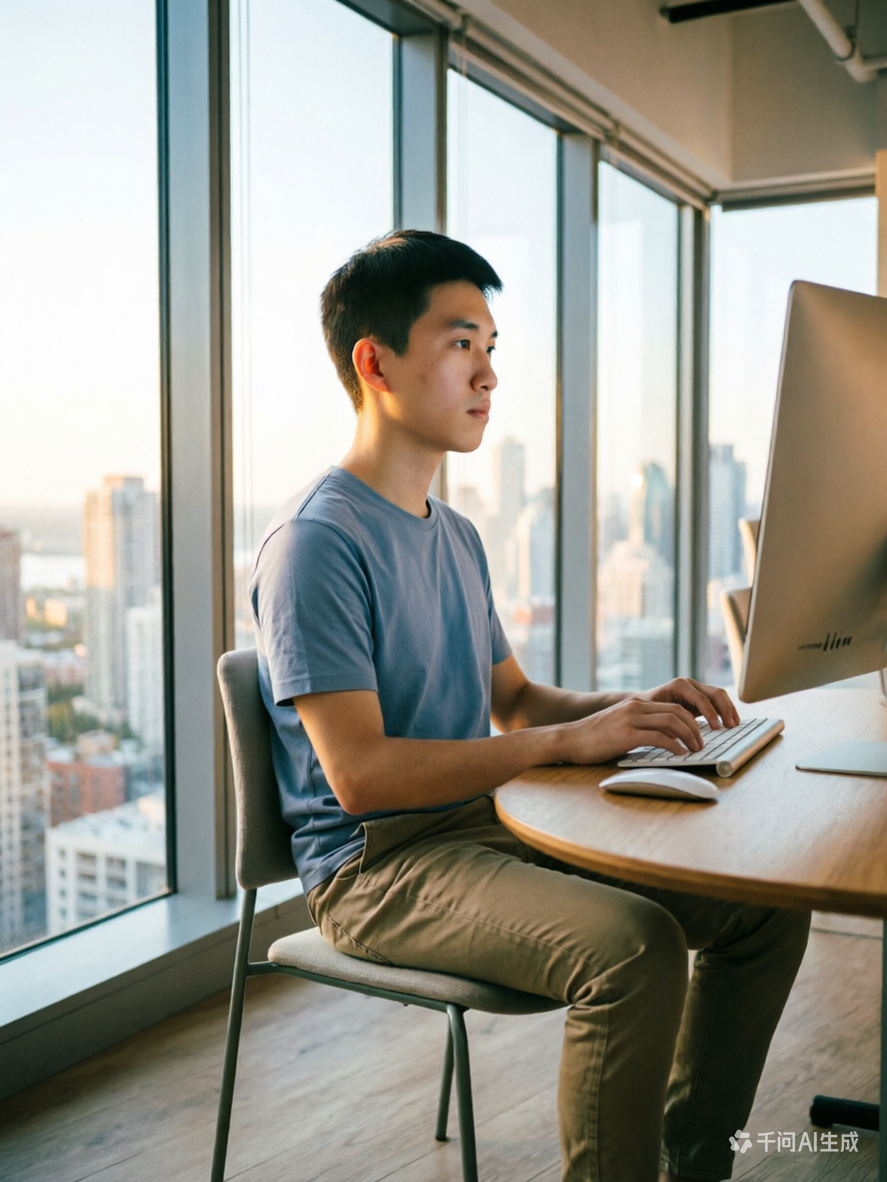sitting_good: (248, 233, 796, 1173)
